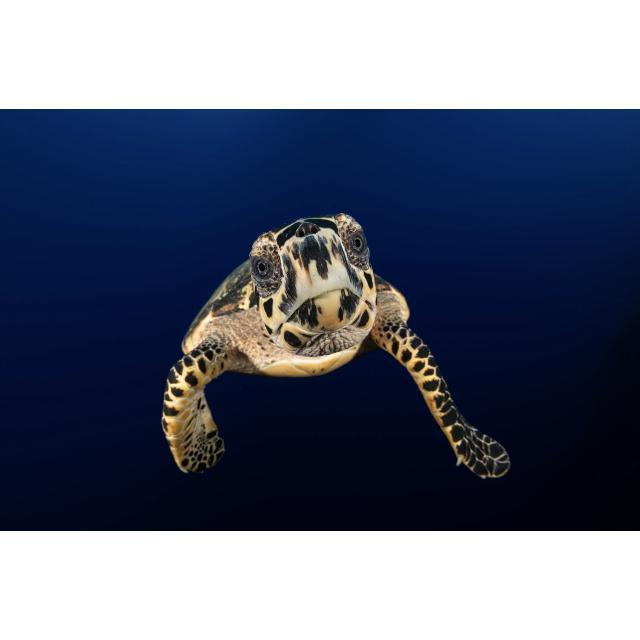turtle: (162, 214, 509, 481)
